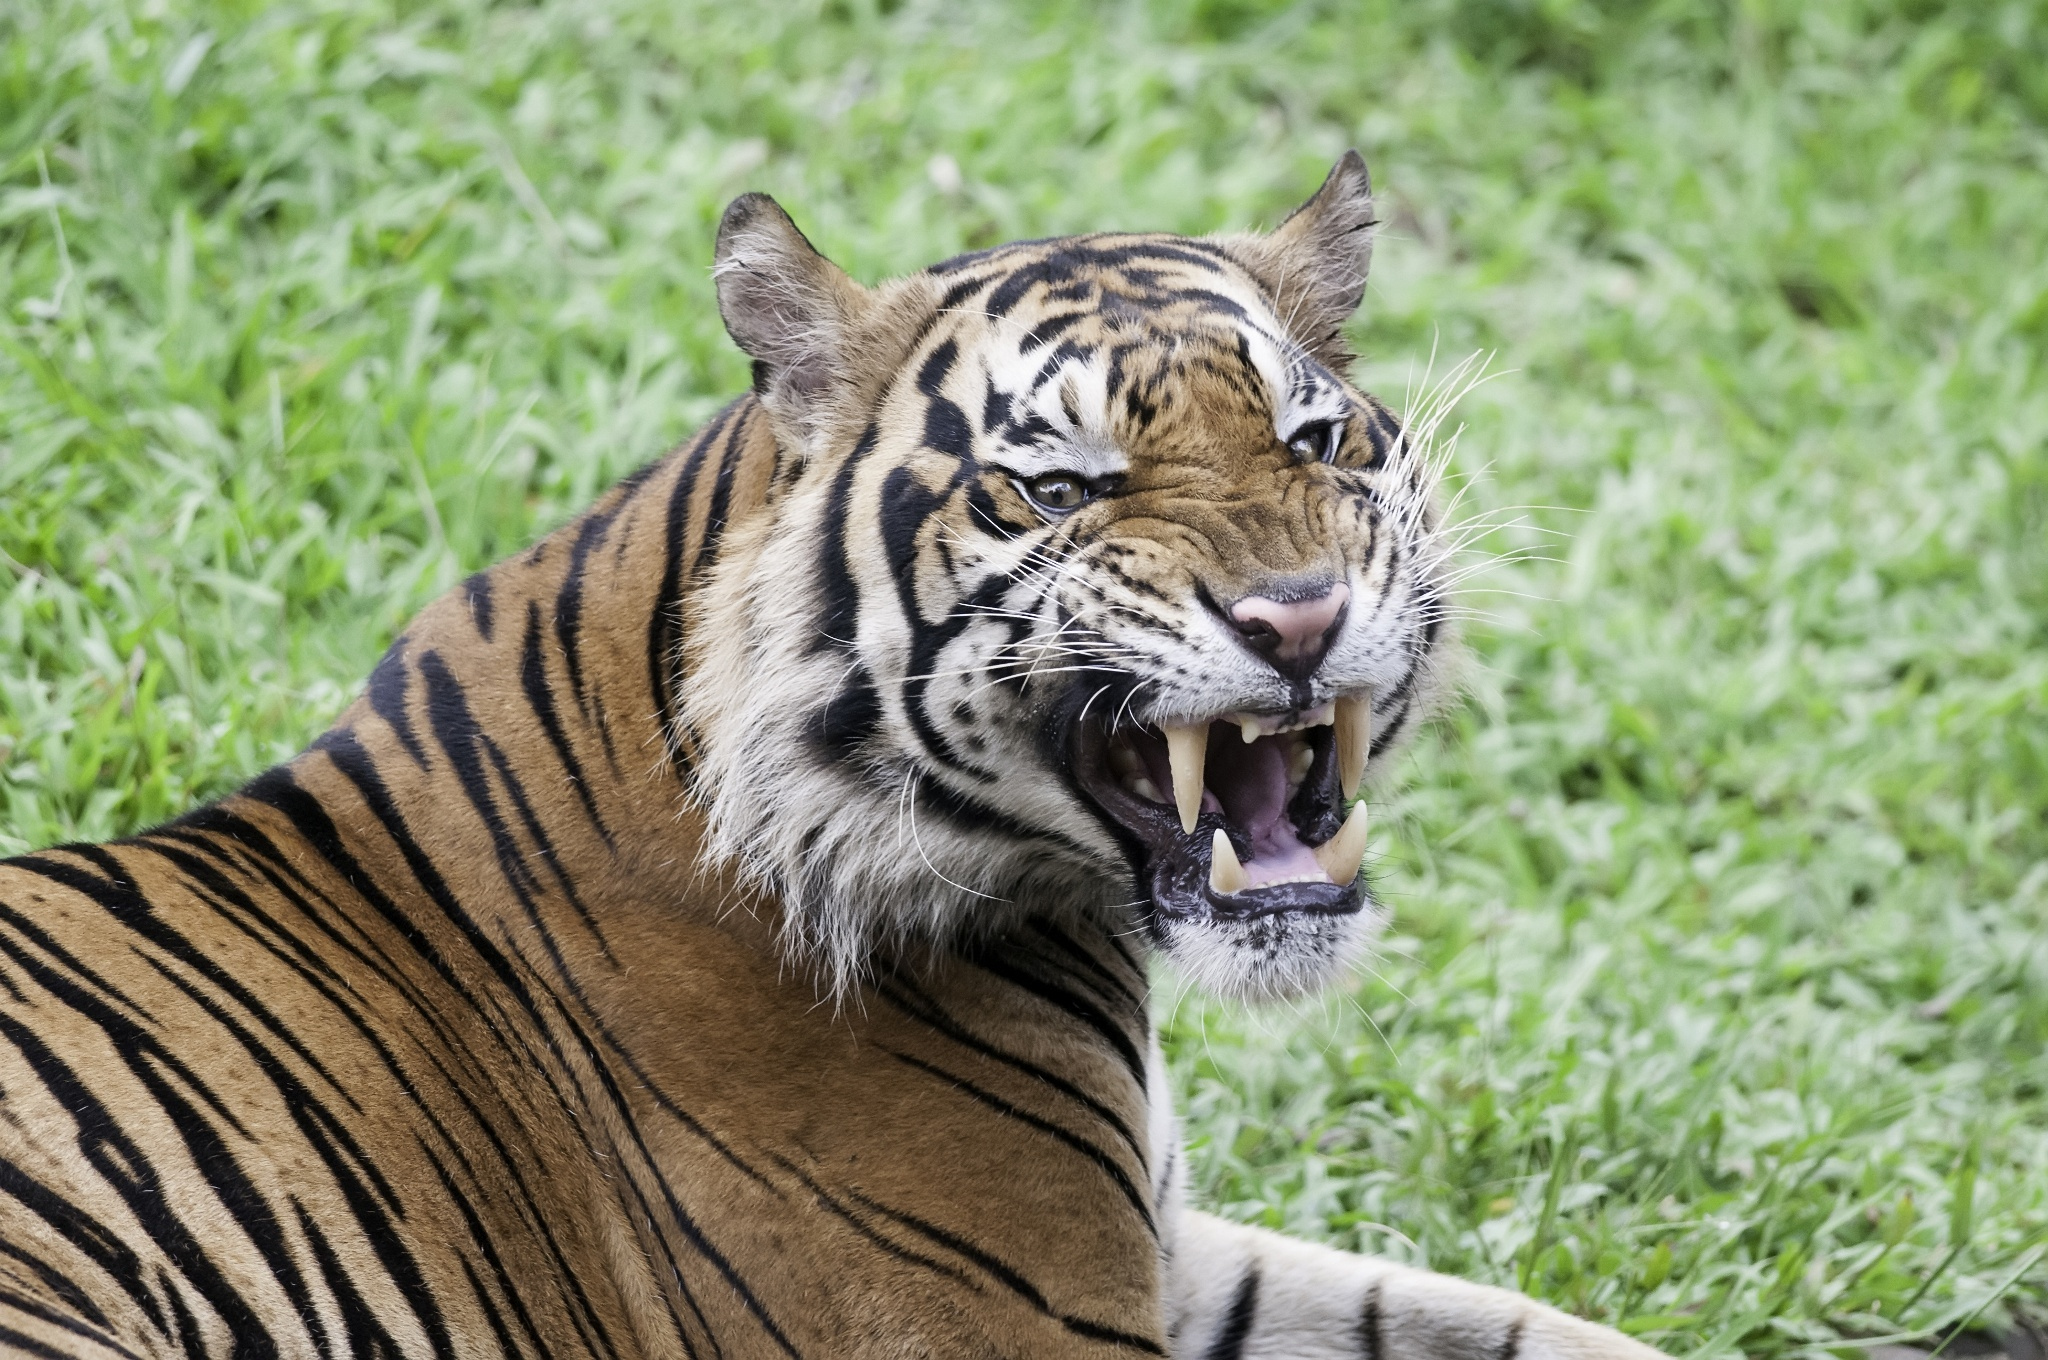tiger: (99, 178, 1490, 1296)
